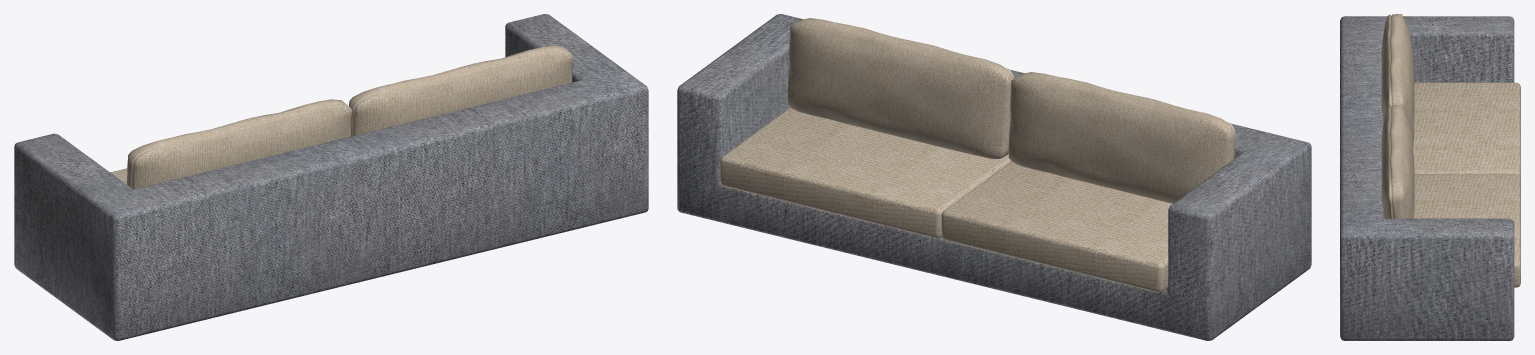
The model's file is simpleCouch.fbx.
The picture shows the model from 3 angles, left to right: view 1: azimuth 30°, elevation 25°; view 2: azimuth 150°, elevation 25°; view 3: azimuth 270°, elevation 25°; orthographic projection. The views are drawn at different scales.
Parts seen in each view (by area): view 1: Cube, Cube.006; view 2: Cube, Cube.006, Cube.001; view 3: Cube, Cube.001, Cube.006.
Part boxes in pixels (x1,y1,x2,y2): Cube: (14, 14, 648, 340); Cube.006: (127, 45, 573, 189); Cube: (677, 14, 1311, 340); Cube.006: (787, 18, 1235, 203); Cube.001: (720, 107, 1172, 292); Cube: (1340, 16, 1514, 340); Cube.001: (1413, 82, 1520, 287); Cube.006: (1381, 14, 1414, 218).
Size of the model in its own units: 1200 by 343 by 415.
